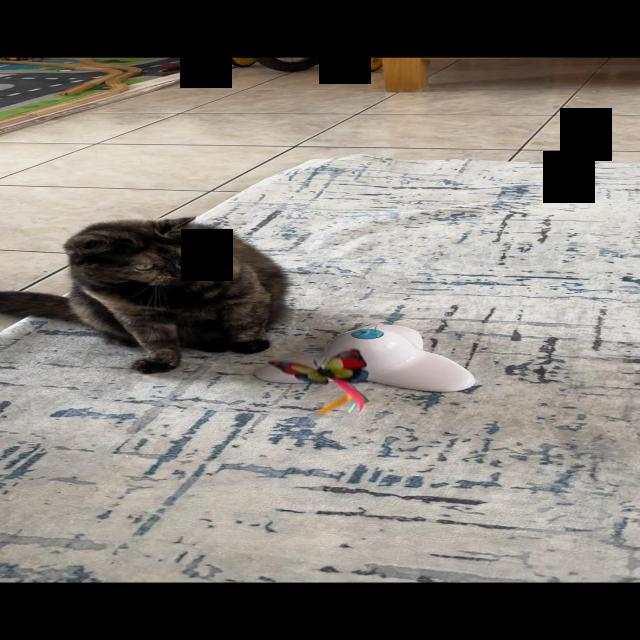authorized: (1, 216, 292, 374)
